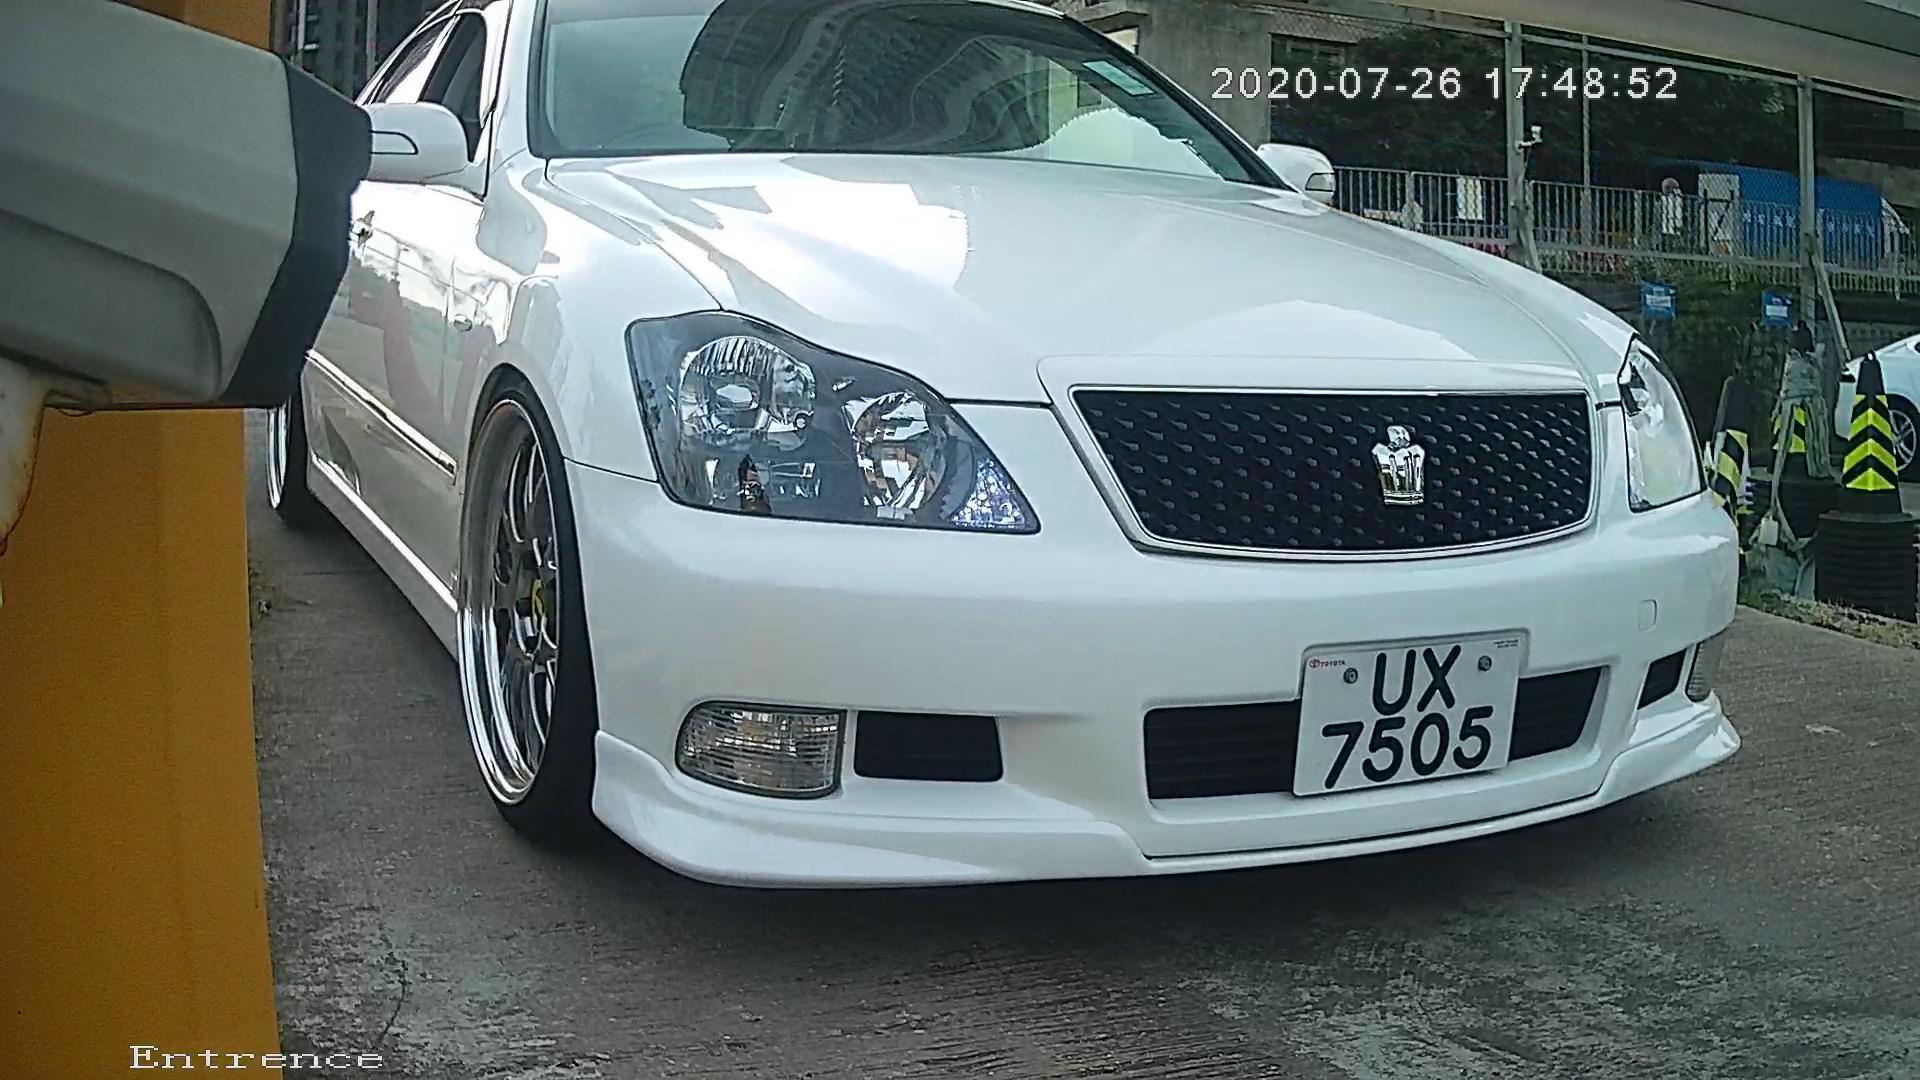License Plate: (1269, 627, 1561, 811)
